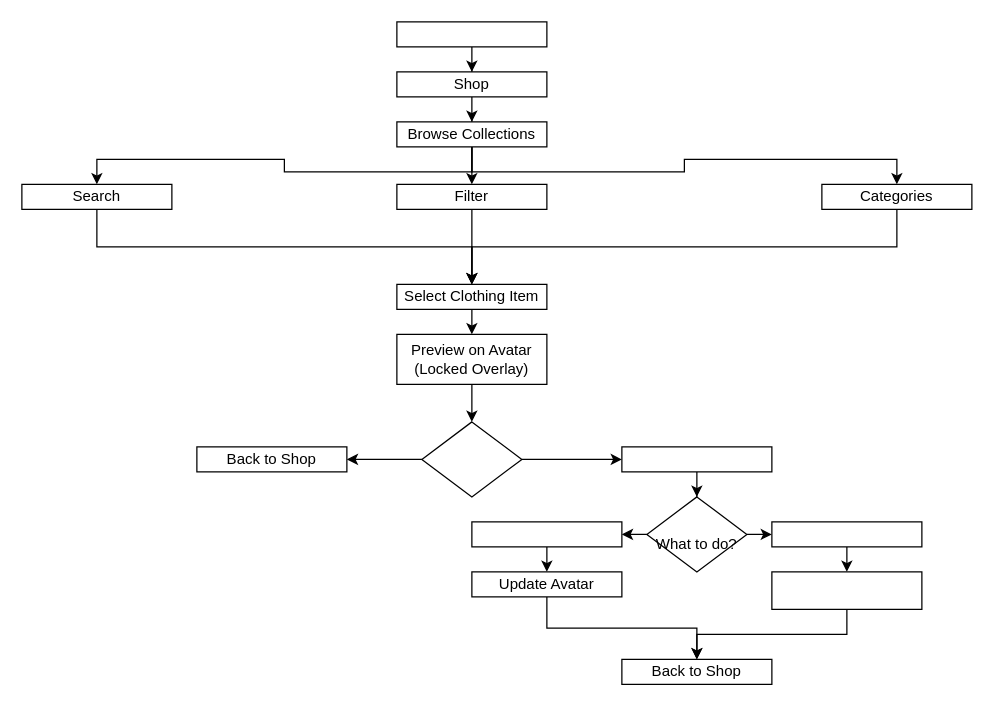
This 994x706 diagram has some shape labels left out. Here are the shapes that lost their labels. From the top down, the centre of each, then its label:
At point (471, 34): "Home Page".
At point (471, 459): "Purchase?".
At point (696, 459): "Purchase Successful".
At point (546, 534): "Equip now".
At point (846, 534): "Add to Wardrobe".
At point (846, 590): "Item added to Wardrobe".
